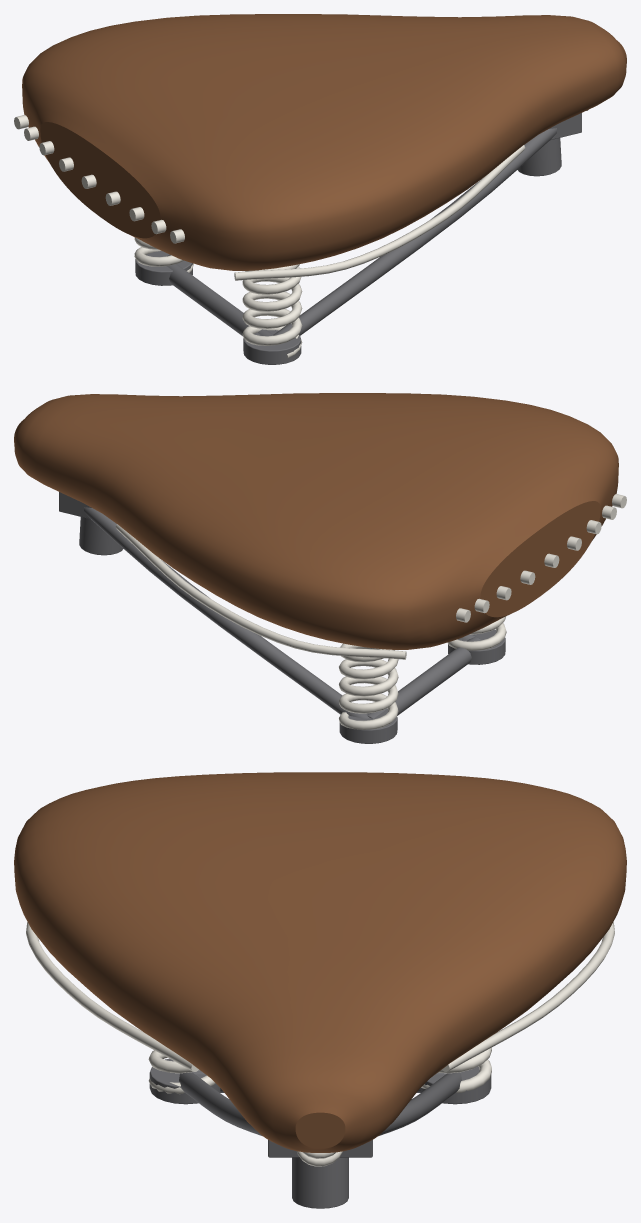
Rendered from bike_vintage_vtwin__seat.glb.
3 views of the same model, one above another, from view 1: azimuth 30°, elevation 25°; view 2: azimuth 150°, elevation 25°; view 3: azimuth 270°, elevation 25° (orthographic). The views are drawn at different scales.
Visible parts, largest first — view 1: frame_body__seat, frame_body__seat__post_and_frame, frame_body__seat__rivets_and_wire, frame_body__seat__springs; view 2: frame_body__seat, frame_body__seat__post_and_frame, frame_body__seat__springs, frame_body__seat__rivets_and_wire; view 3: frame_body__seat, frame_body__seat__post_and_frame, frame_body__seat__rivets_and_wire, frame_body__seat__springs.
Part boxes in pixels (x1,y1,x2,y2): frame_body__seat: (22,14,626,270); frame_body__seat__post_and_frame: (135,113,581,364); frame_body__seat__rivets_and_wire: (14,115,525,280); frame_body__seat__springs: (134,110,587,357); frame_body__seat: (14,393,618,649); frame_body__seat__post_and_frame: (59,492,505,743); frame_body__seat__springs: (339,616,506,729); frame_body__seat__rivets_and_wire: (115,494,626,659); frame_body__seat: (14,772,626,1152); frame_body__seat__post_and_frame: (149,1058,491,1208); frame_body__seat__rivets_and_wire: (26,922,614,1071); frame_body__seat__springs: (148,1047,491,1166).
Bounding box in the file's own units: 30.7 × 12.41 × 24.59.
